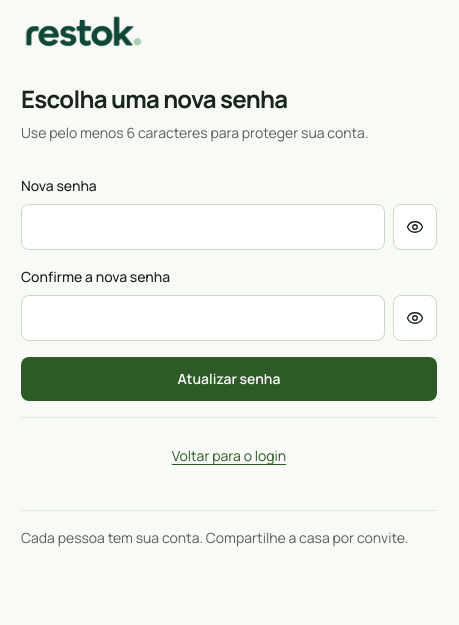
Test case: password reset › keeps mismatched passwords local and focuses the error
Type "apenas-fixture" into the password field labelled "Nova senha" at (203, 227), box [21,204,385,250]
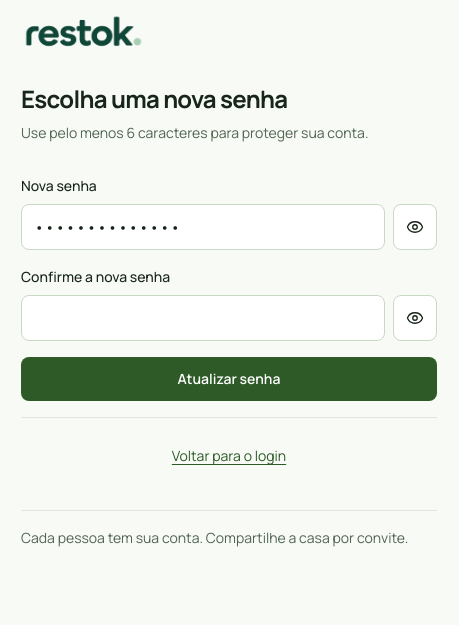
Type "apenas-fixture" into the password field labelled "Confirme a nova senha" at (203, 318), box [21,295,385,341]
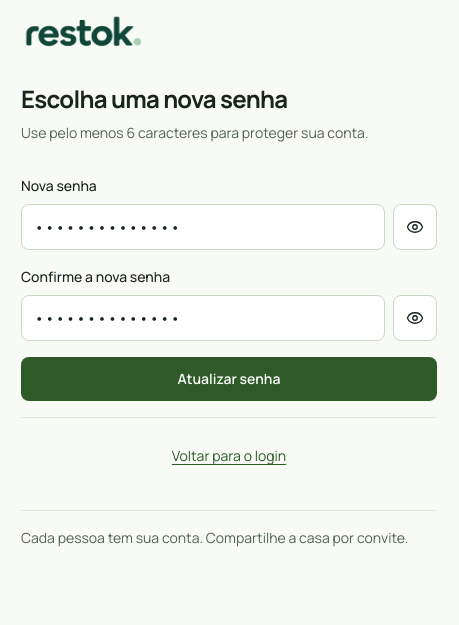
Type "diferente" into the password field labelled "Confirme a nova senha" at (203, 318), box [21,295,385,341]
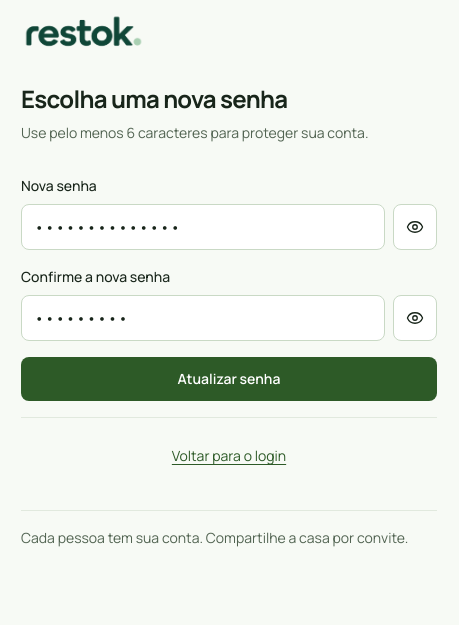
Submit the form named "Escolha uma nova senha", box [21,175,437,478]
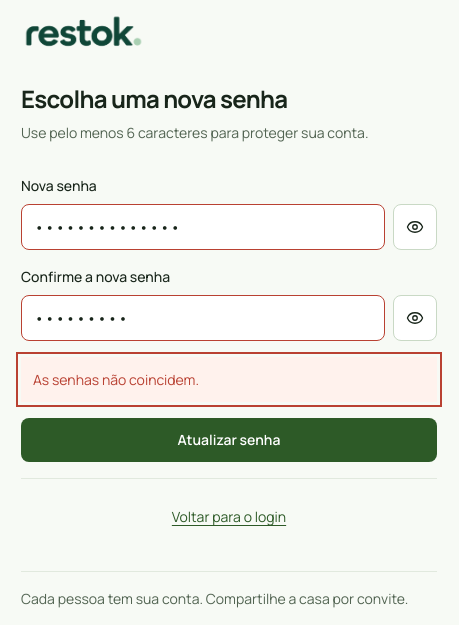
Expected: the message reads "As senhas não coincidem.", [33,370,199,389]
